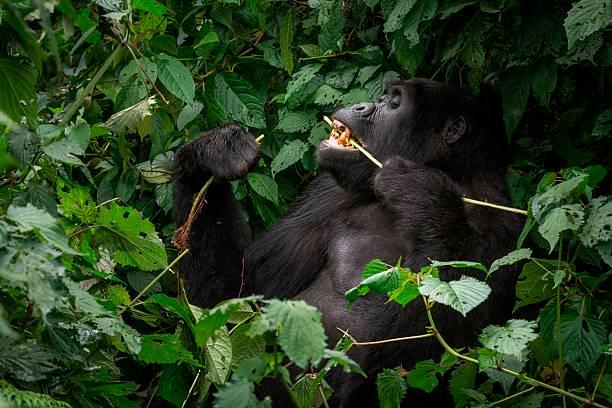goriile_montagne: (176, 73, 538, 370)
